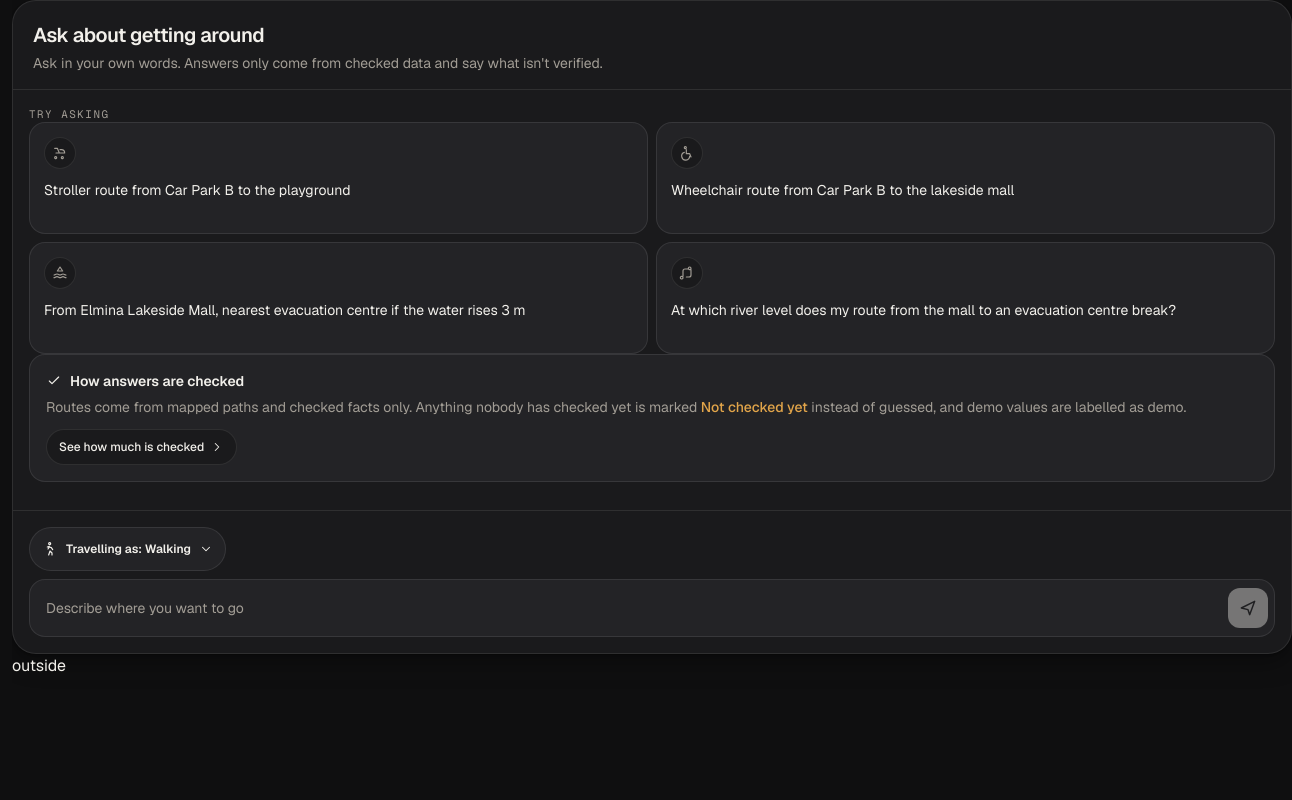
AssistantPanel › Travelling-as keyboard pattern › Enter selects and returns focus to the chip
The width and height of the screenshot is (1292, 800).
Click the button "Travelling as: Walking" at (128, 549), box [29,527,226,571]
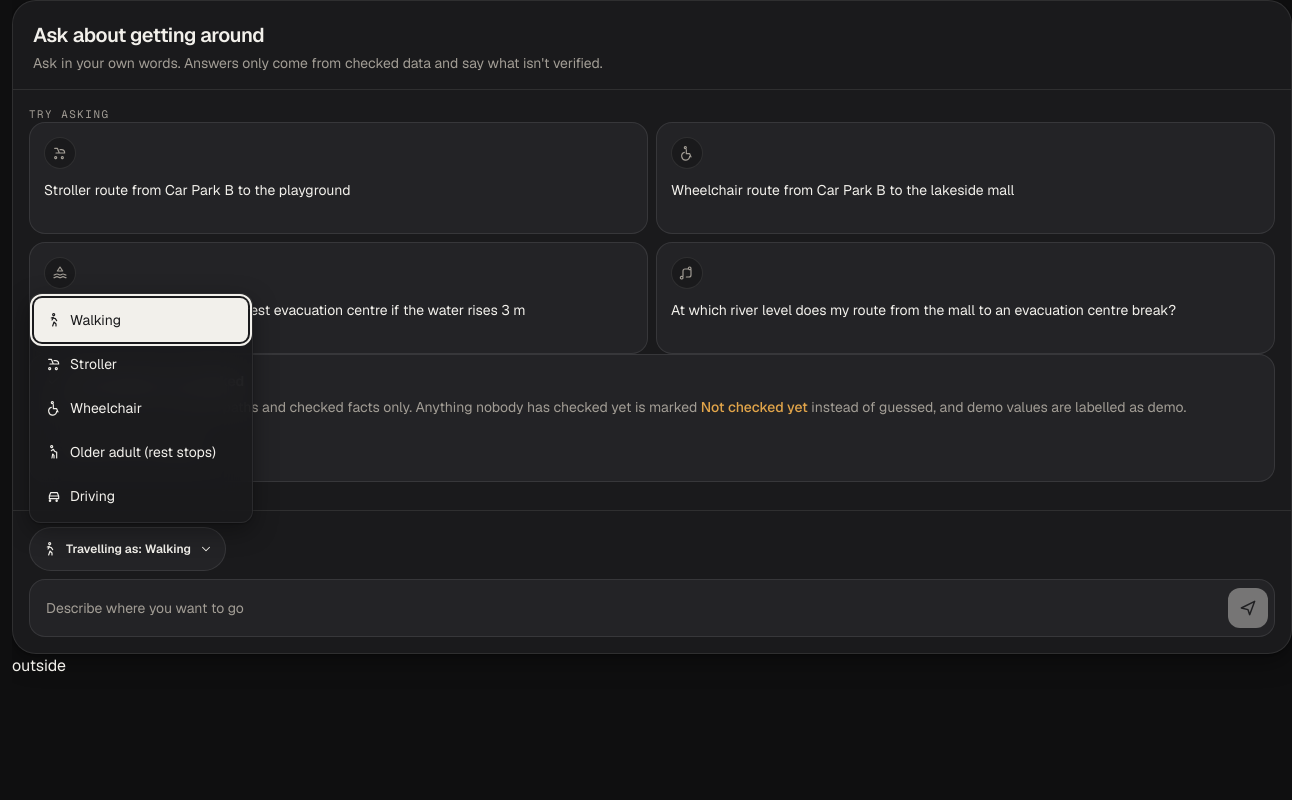
Press ArrowDown in the option "Walking", box [34,298,248,342]
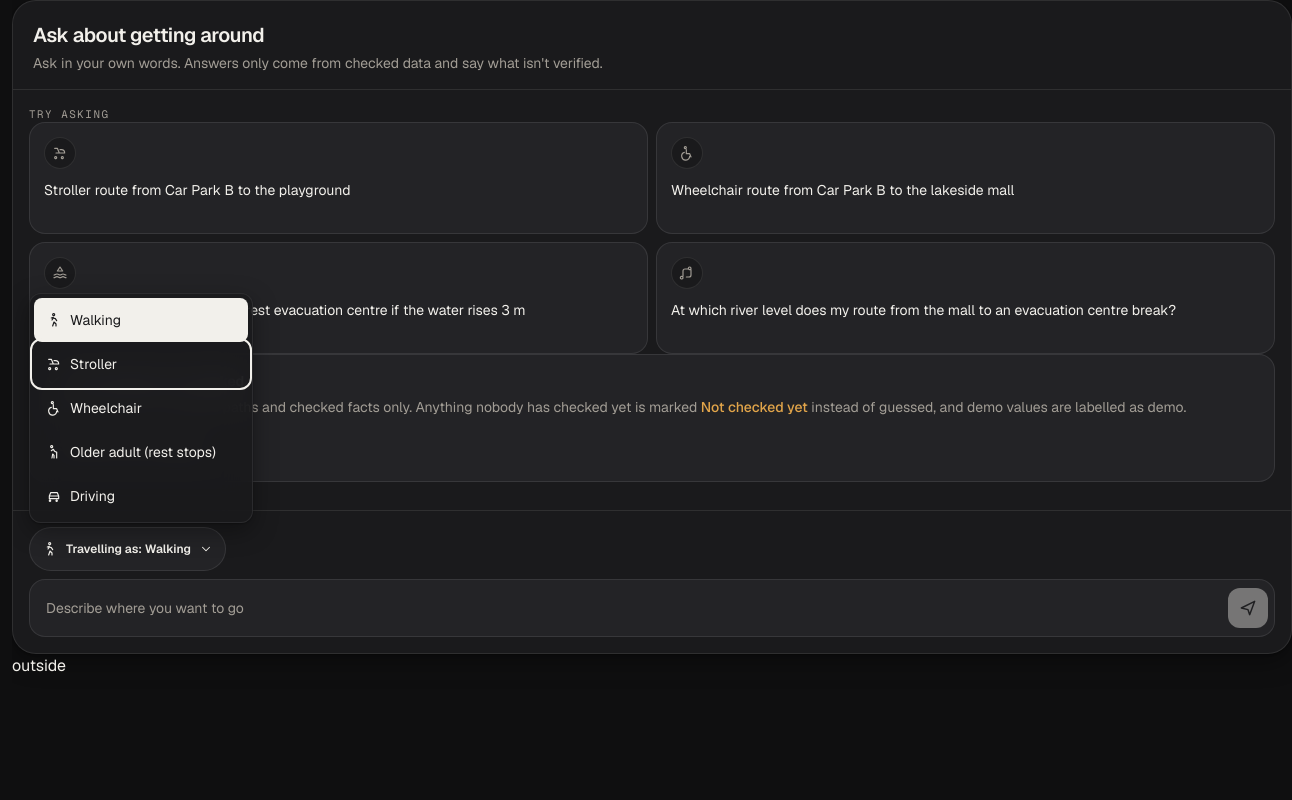
Press Enter in the option "Stroller", box [46,355,117,373]
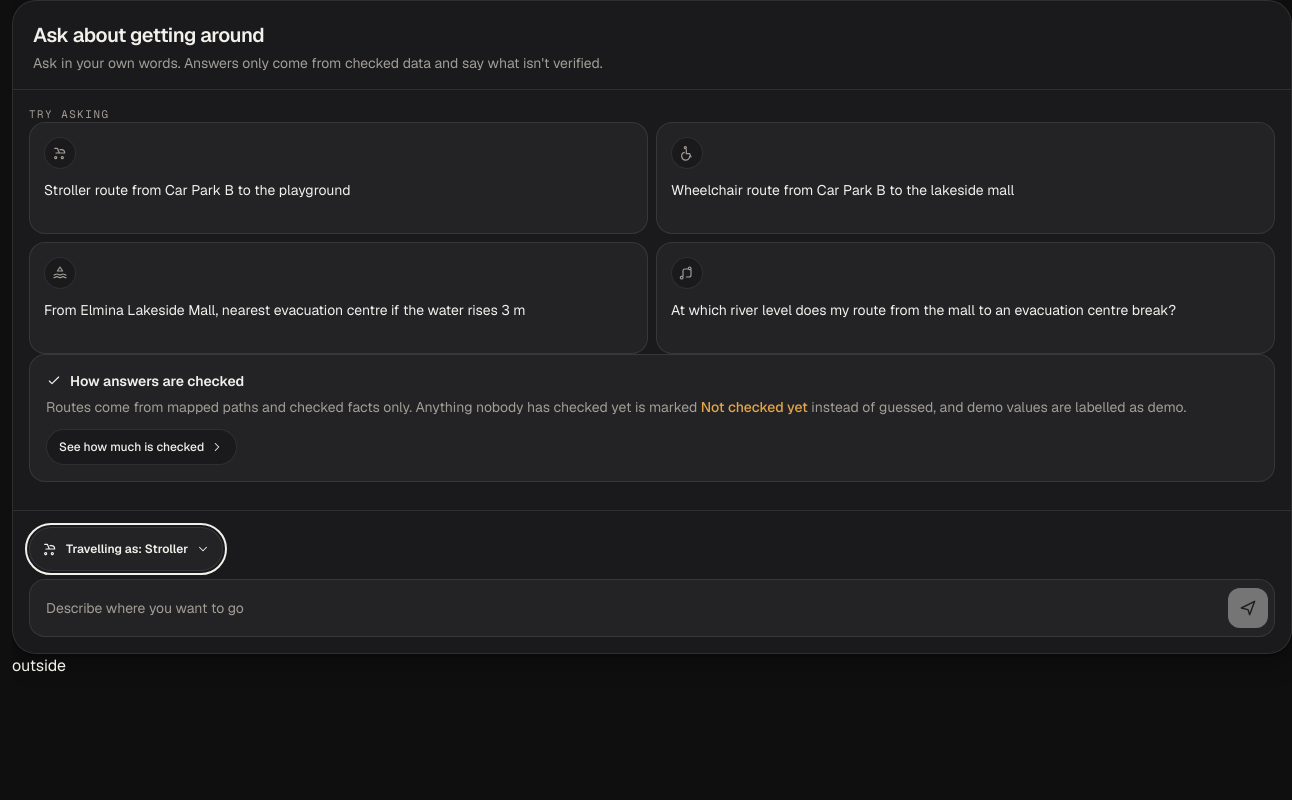
Check: the list "Walking Stroller Wheelchair Older adult (rest stops) Driving" is gone
Check: the button "Travelling as: Stroller" is shown, box [29,527,223,571]
